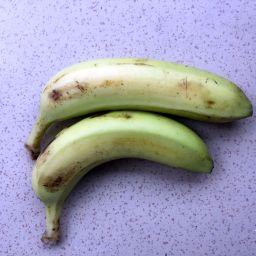Banana Ripe: (27, 109, 256, 243), (24, 52, 256, 146)
